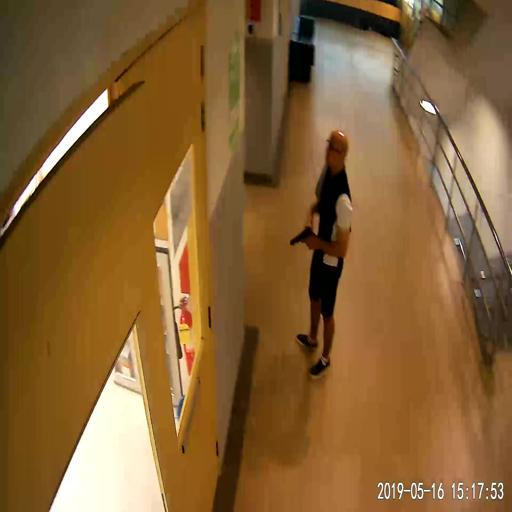pistol: (290, 225, 313, 249)
